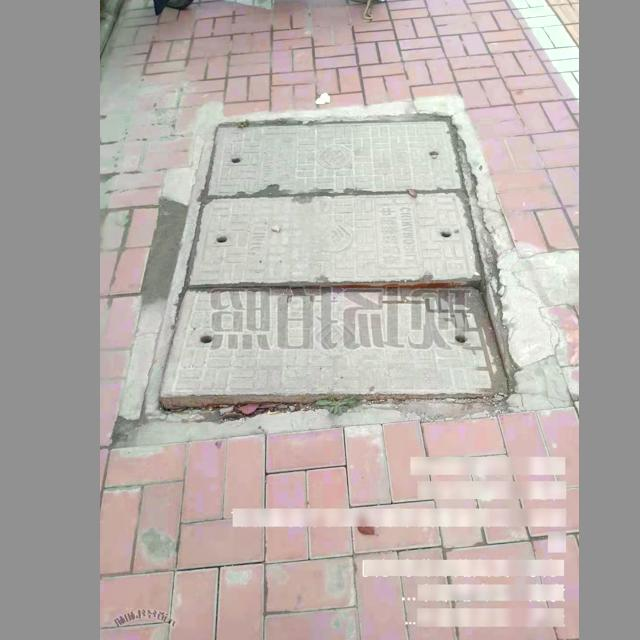uncovered: (143, 105, 517, 423)
